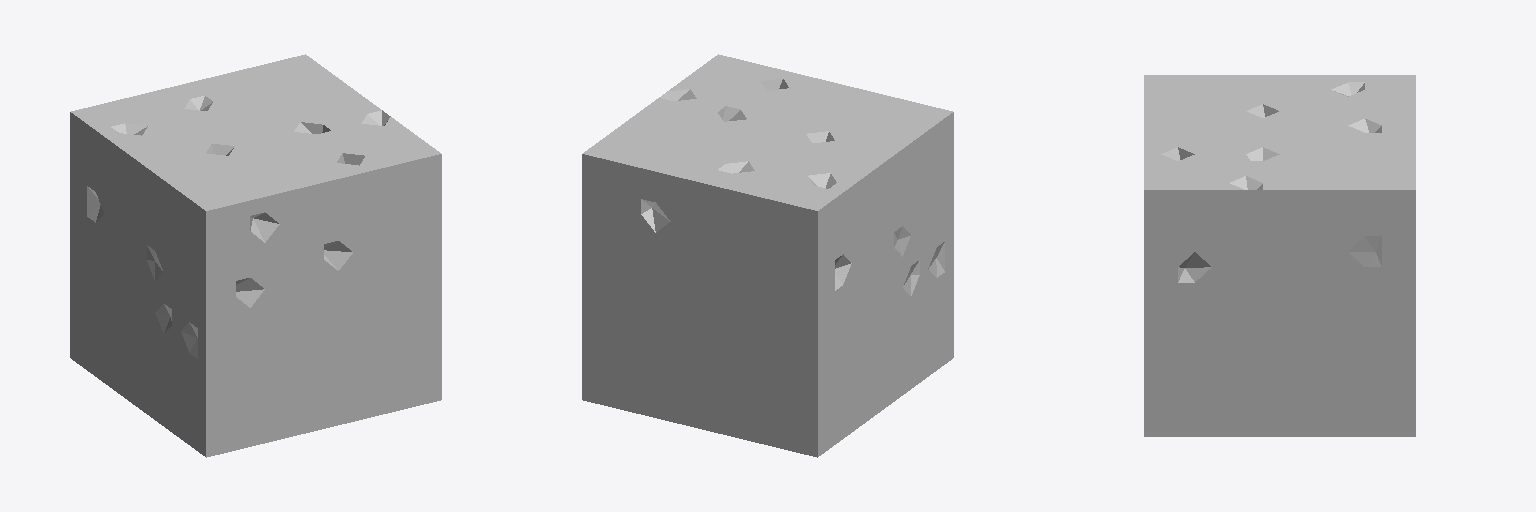
File: roomtest.obj
3 renders of one model, left to right at view 1: azimuth 30°, elevation 25°; view 2: azimuth 150°, elevation 25°; view 3: azimuth 270°, elevation 25°, orthographic.
Parts seen in each view (by area): view 1: Cube; view 2: Cube; view 3: Cube.
Part boxes in pixels (bbox=[...]): Cube: bbox=[70, 54, 441, 457]; Cube: bbox=[582, 54, 953, 457]; Cube: bbox=[1144, 75, 1415, 436].
Bounding box in the file's own units: 2 × 2 × 2.